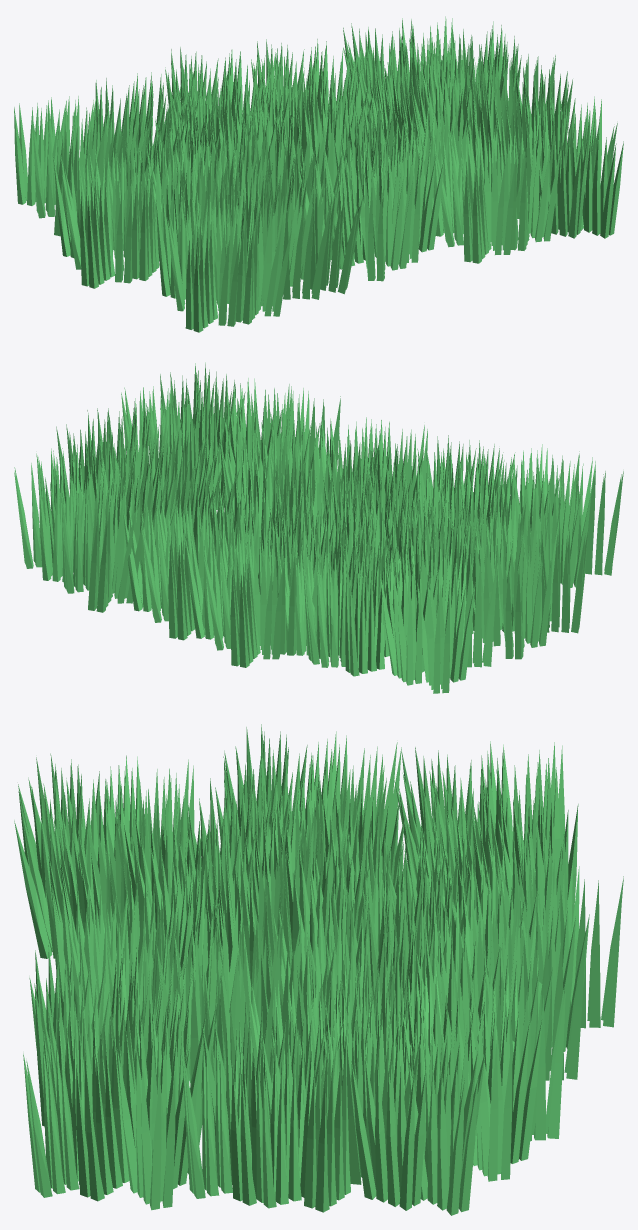
File: grassBlades.glb
3 views of the same model, one above another, from view 1: azimuth 30°, elevation 25°; view 2: azimuth 150°, elevation 25°; view 3: azimuth 270°, elevation 25° (orthographic). The views are drawn at different scales.
Parts seen in each view (by area): view 1: Cube.004, Cube.009, Cube.007, Cube.001, Cube.008, Cube.010, Cube.005, Cube.002, Cube.003, Cube.006; view 2: Cube.008, Cube.006, Cube.007, Cube.005, Cube.003, Cube.004, Cube.009, Cube.001, Cube.010, Cube.002; view 3: Cube.010, Cube.009, Cube.005, Cube.001, Cube.004, Cube.003, Cube.006, Cube.008, Cube.002, Cube.007.
Boxes of the visible parts, bbox=[...] form: Cube.004: bbox=[156, 154, 362, 332]; Cube.009: bbox=[416, 96, 623, 263]; Cube.007: bbox=[53, 117, 261, 288]; Cube.001: bbox=[298, 98, 469, 281]; Cube.008: bbox=[14, 72, 221, 236]; Cube.010: bbox=[403, 21, 575, 184]; Cube.005: bbox=[343, 16, 474, 159]; Cube.002: bbox=[139, 107, 347, 264]; Cube.003: bbox=[241, 39, 375, 190]; Cube.006: bbox=[155, 47, 289, 179]; Cube.008: bbox=[278, 531, 497, 693]; Cube.006: bbox=[185, 499, 396, 667]; Cube.007: bbox=[367, 489, 588, 659]; Cube.005: bbox=[39, 439, 250, 612]; Cube.003: bbox=[123, 470, 334, 640]; Cube.004: bbox=[403, 435, 623, 587]; Cube.009: bbox=[121, 362, 340, 509]; Cube.001: bbox=[219, 417, 427, 527]; Cube.010: bbox=[14, 398, 207, 568]; Cube.002: bbox=[305, 463, 526, 582]; Cube.010: bbox=[182, 999, 486, 1215]; Cube.009: bbox=[23, 944, 215, 1210]; Cube.005: bbox=[248, 952, 565, 1181]; Cube.001: bbox=[51, 867, 334, 1085]; Cube.004: bbox=[14, 753, 211, 960]; Cube.003: bbox=[273, 875, 587, 1080]; Cube.006: bbox=[309, 820, 623, 1071]; Cube.008: bbox=[384, 741, 578, 939]; Cube.002: bbox=[178, 775, 368, 1023]; Cube.007: bbox=[215, 724, 405, 952].
Size of the model in its own units: 10.22 by 2.17 by 7.41.
